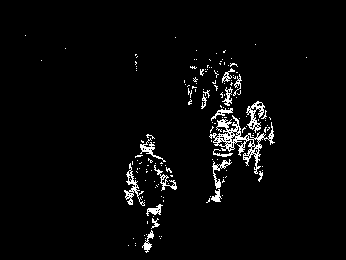person: (126, 132, 179, 252), (208, 95, 241, 209), (239, 96, 275, 184), (222, 60, 244, 114)
